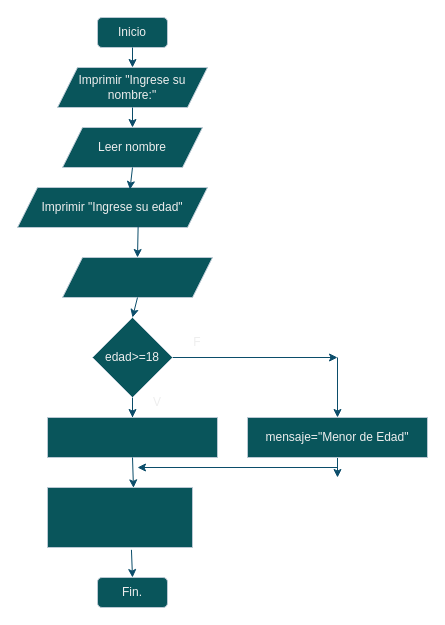
This 445x625 diagram has some shape labels left out. Each missing label, with the box of its shape:
Imprimir "Bienvenido " + nombre+ " eres " + mensaje: (46, 486, 192, 548)
Leer edad: (62, 256, 212, 298)
mensaje="Mayor de Edad": (46, 416, 218, 458)
